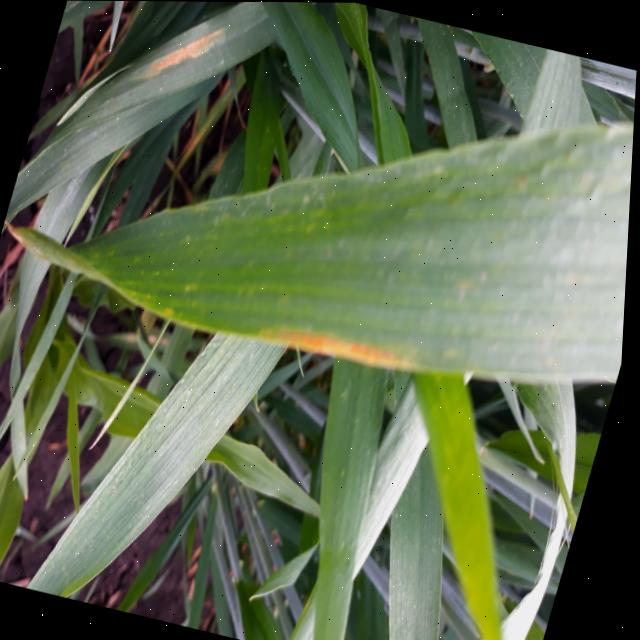yellow_rust: (165, 116, 502, 401), (141, 67, 275, 210), (99, 1, 235, 128), (67, 0, 144, 102), (0, 191, 49, 335)
